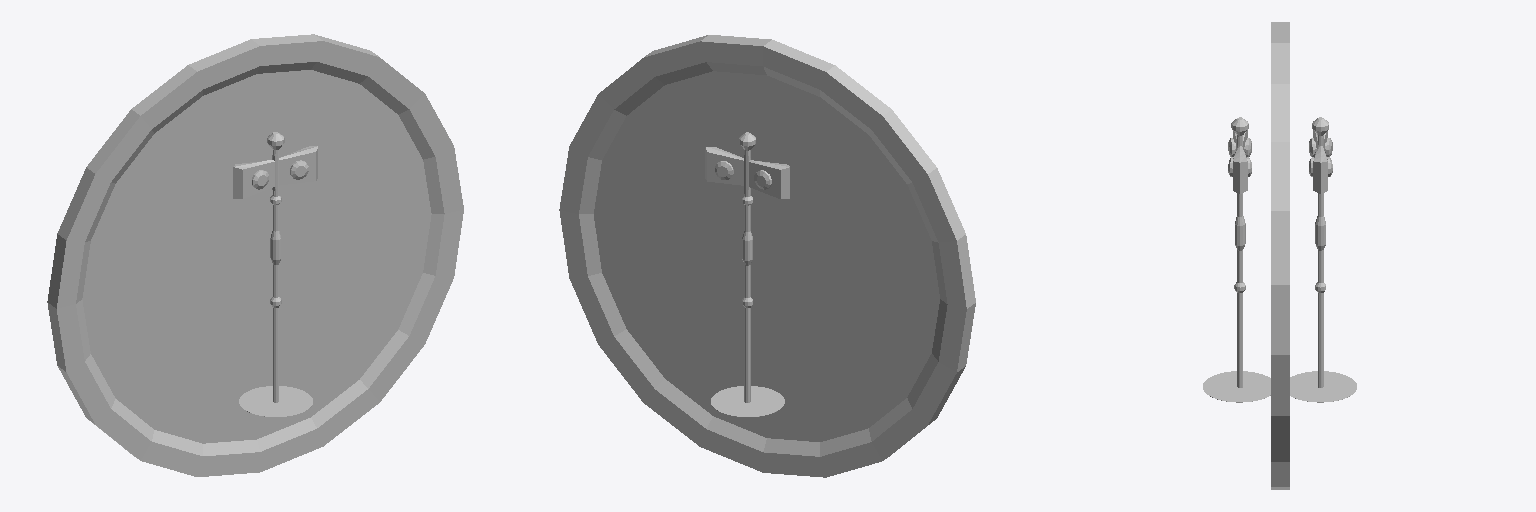
Rendered from Ability_Healing.obj.
3 renders of one model, left to right at view 1: azimuth 30°, elevation 25°; view 2: azimuth 150°, elevation 25°; view 3: azimuth 270°, elevation 25°, orthographic.
Visible parts, largest first — view 1: polySurface5; view 2: polySurface5; view 3: polySurface5.
Part boxes in pixels (left/top/right/bottom): polySurface5: left=47, top=34, right=463, bottom=476; polySurface5: left=559, top=35, right=975, bottom=477; polySurface5: left=1203, top=22, right=1356, bottom=489.
Size of the model in its own units: 3.22 by 3.22 by 1.06.